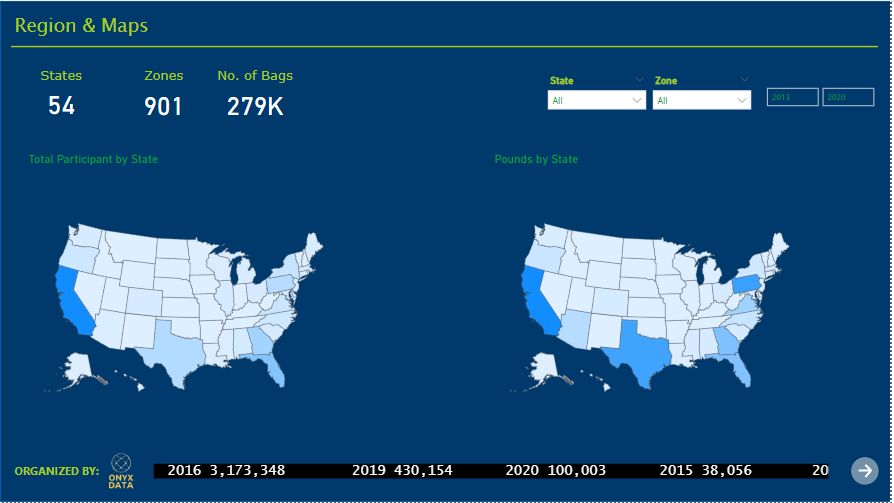

What the dashboard file says about the page in this screenshot:
{"tool":"powerbi","page":{"name":"REGION","canvas":[1280,720],"ordinal":3},"visuals":[{"type":"shape","box":[0,0,1280,720],"z":0},{"type":"card","title":"No. of Bags","fields":{"Values":["My Measures.Total No of Bags"]},"box":[301.8,95.1,129.3,81.9],"z":0,"group":"g1"},{"type":"card","title":"States","fields":{"Values":["Count(Onyx Data DataDNA Dataset Challenge - July 2023.State)"]},"box":[0,95.5,175.3,79],"z":1000,"group":"g1"},{"type":"shape","box":[15.7,57.1,1245.7,15.7],"z":1000},{"type":"card","title":"Zones","fields":{"Values":["Count(Onyx Data DataDNA Dataset Challenge - July 2023.Zone)"]},"box":[168.4,94.9,133.7,81.9],"z":2000,"group":"g1"},{"type":"image","box":[144.3,645.7,60,60],"z":2000},{"type":"textbox","box":[15.7,660,141.4,31.4],"z":3000},{"type":"actionButton","box":[1222.9,655.7,40,40],"z":5000},{"type":"ScrollingTextVisual1448795304508","fields":{"Category":["Calendar.Year"],"Measure Absolute":["My Measures.Total pounds"]},"box":[215.7,660,978.6,31.4],"z":6000},{"type":"textbox","box":[15.8,10.1,291.7,54.6],"z":7000},{"type":"pythonVisual","box":[1331.9,113.9,607.5,607.5],"z":8000},{"type":"group","id":"g1","title":"people","box":[0,94.9,431.1,82.1],"z":9000},{"type":"shapeMap","fields":{"Category":["Onyx Data DataDNA Dataset Challenge - July 2023.State"],"Value":["My Measures.Total Participant"]},"box":[35.9,217,455.6,428.3],"z":10000},{"type":"shapeMap","title":"Pounds by State","fields":{"Category":["Onyx Data DataDNA Dataset Challenge - July 2023.State"],"Value":["Sum(Onyx Data DataDNA Dataset Challenge - July 2023.Pounds)"]},"box":[705.6,217,455.6,428.3],"z":11000},{"type":"slicer","fields":{"Values":["Onyx Data DataDNA Dataset Challenge - July 2023.State"]},"box":[777.5,100.6,161,73.3],"z":12000},{"type":"slicer","fields":{"Values":["Onyx Data DataDNA Dataset Challenge - July 2023.Zone"]},"box":[928.4,100.6,161,73.3],"z":13000},{"type":"slicer","title":"Cleanup Activities Over Time","fields":{"Values":["Calendar.Year"]},"box":[1089.3,115,173.9,46],"z":13001}]}

Visuals, with their boxes in screenshot pixels (x1, y1, x2, y2), scaled from the page's 1280x720 canvas onto the 894x503 screenshot:
shape: (left=0, top=0, right=893, bottom=502)
"No. of Bags" card: (left=211, top=66, right=301, bottom=124)
"States" card: (left=0, top=67, right=122, bottom=122)
shape: (left=11, top=40, right=881, bottom=51)
"Zones" card: (left=118, top=66, right=211, bottom=124)
image: (left=101, top=451, right=143, bottom=493)
textbox: (left=11, top=461, right=110, bottom=483)
actionButton: (left=854, top=458, right=882, bottom=486)
ScrollingTextVisual1448795304508 - Calendar.Year x My Measures.Total pounds: (left=151, top=461, right=834, bottom=483)
textbox: (left=11, top=7, right=215, bottom=45)
"people" group: (left=0, top=66, right=301, bottom=124)
shapeMap - Onyx Data DataDNA Dataset Challenge - July 2023.State x My Measures.Total Participant: (left=25, top=152, right=343, bottom=451)
"Pounds by State" shapeMap: (left=493, top=152, right=811, bottom=451)
slicer - Onyx Data DataDNA Dataset Challenge - July 2023.State: (left=543, top=70, right=655, bottom=121)
slicer - Onyx Data DataDNA Dataset Challenge - July 2023.Zone: (left=648, top=70, right=761, bottom=121)
"Cleanup Activities Over Time" slicer: (left=761, top=80, right=882, bottom=112)
